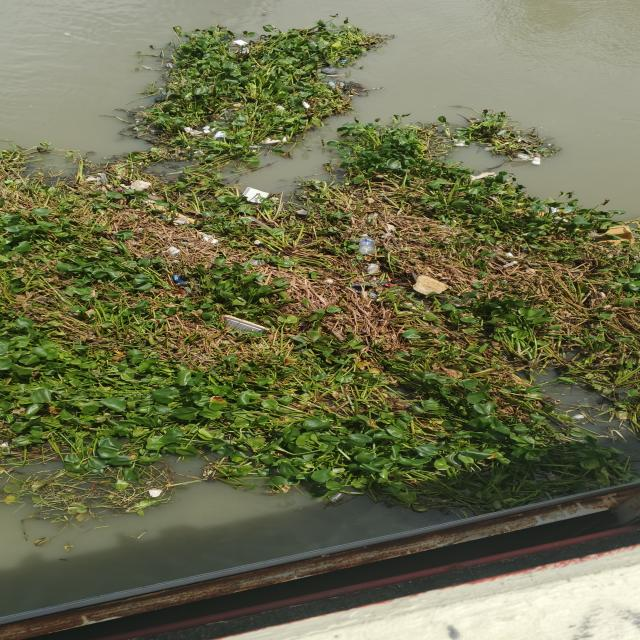Electronic Waste: (500, 261, 519, 268)
Fabric and Textiles: (516, 153, 535, 160), (172, 274, 182, 282)
Foamed Plastic: (200, 465, 354, 477), (584, 224, 640, 247), (409, 274, 448, 296), (469, 171, 497, 182), (231, 39, 251, 48), (200, 236, 218, 244), (166, 247, 180, 256), (214, 130, 227, 138), (300, 100, 311, 109), (247, 260, 260, 266), (504, 252, 516, 258), (183, 126, 194, 132), (273, 106, 286, 111), (190, 130, 203, 135), (202, 126, 210, 130), (202, 129, 210, 133)
Glass and Ceramic: (218, 314, 274, 337), (172, 281, 190, 286)
Metal: (410, 274, 441, 290), (364, 263, 378, 273)
Organic Debris: (0, 126, 640, 515), (117, 10, 400, 173)
Paper and Cardboard: (410, 275, 451, 296), (239, 187, 270, 204), (129, 180, 153, 191), (365, 262, 377, 274), (365, 263, 376, 271)
Plastic: (357, 234, 377, 255), (329, 491, 345, 503), (320, 66, 339, 74), (295, 209, 315, 215), (99, 174, 110, 184), (154, 95, 167, 102), (494, 130, 508, 136), (85, 176, 98, 182), (328, 81, 337, 89), (247, 145, 264, 149), (439, 226, 455, 230), (141, 65, 153, 70), (380, 233, 388, 240), (167, 62, 174, 68), (193, 150, 203, 154), (161, 92, 173, 95), (373, 212, 379, 217), (340, 59, 347, 63), (364, 214, 369, 219), (338, 82, 344, 86), (280, 137, 286, 141), (137, 228, 143, 232)
Rubber: (260, 138, 282, 144), (195, 231, 213, 238), (532, 156, 542, 164)
